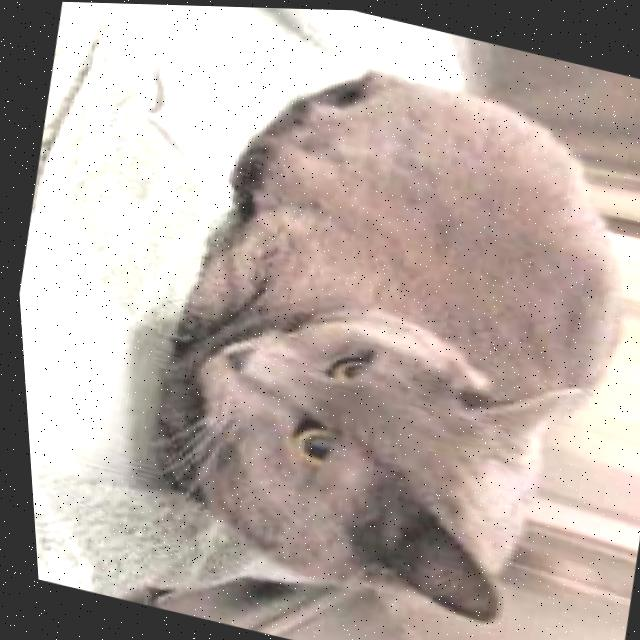Russian Blue: (100, 23, 640, 640)
